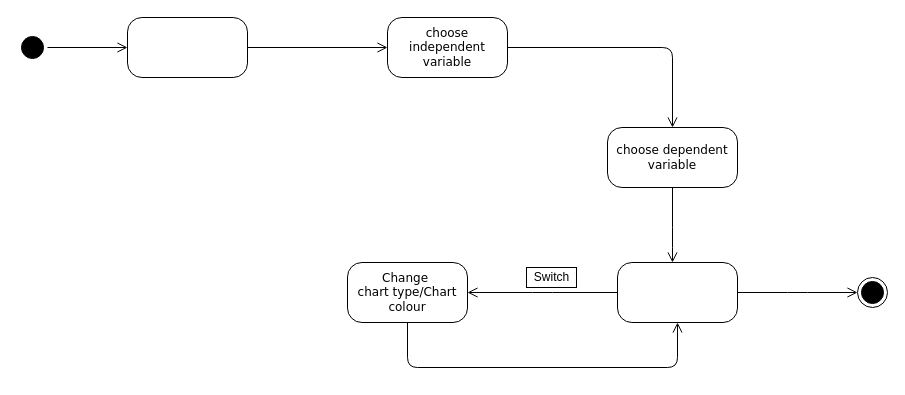
Image size: 905x395. Some labels were removed from this diagram. Here are the shapes that lost their labels. From the top down, the centre of each, then its label:
point 187,47: logged in
point 677,292: chart display
